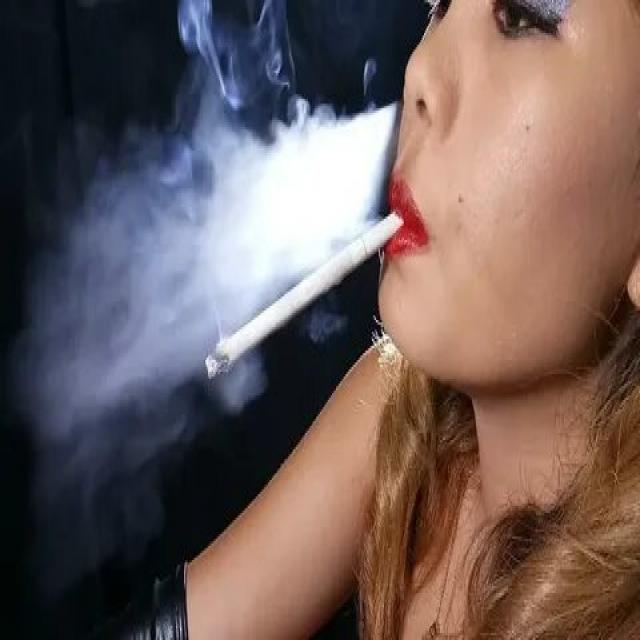cigarette: (202, 212, 402, 384)
